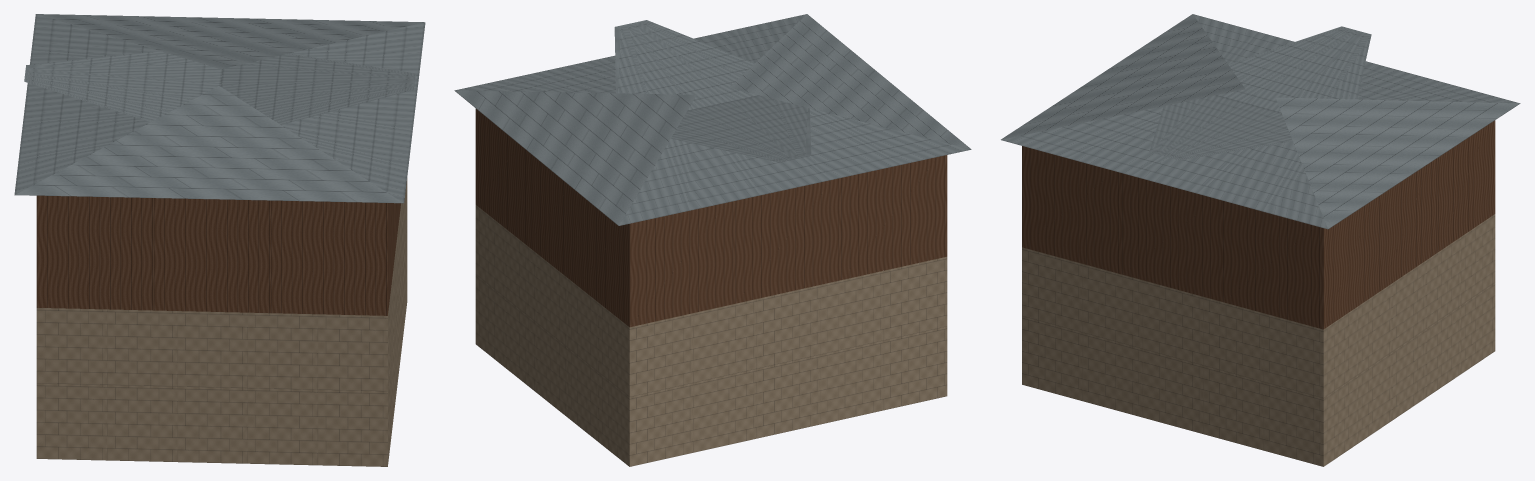
Rendered from bld_c14_33_374.gltf.
3 views of the same model, side by side, from view 1: azimuth 30°, elevation 25°; view 2: azimuth 150°, elevation 25°; view 3: azimuth 270°, elevation 25° (orthographic). The views are drawn at different scales.
Parts seen in each view (by area): view 1: bld_c14_33_374; view 2: bld_c14_33_374; view 3: bld_c14_33_374.
Part boxes in pixels (bbox=[...]): bld_c14_33_374: bbox=[14, 14, 425, 466]; bld_c14_33_374: bbox=[454, 14, 971, 466]; bld_c14_33_374: bbox=[1001, 14, 1520, 466].
Size of the model in its own units: 16.3 by 9.7 by 16.64.
3 materials, 3 textured.
